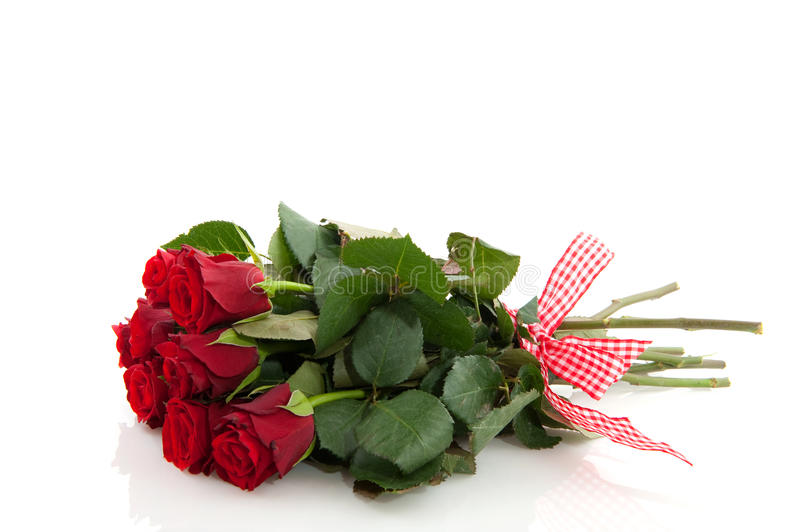RedRose: (230, 389, 316, 469), (162, 248, 208, 329), (160, 345, 223, 391), (162, 400, 205, 461), (107, 307, 147, 365), (128, 291, 168, 349), (122, 364, 164, 413), (140, 257, 171, 294)
